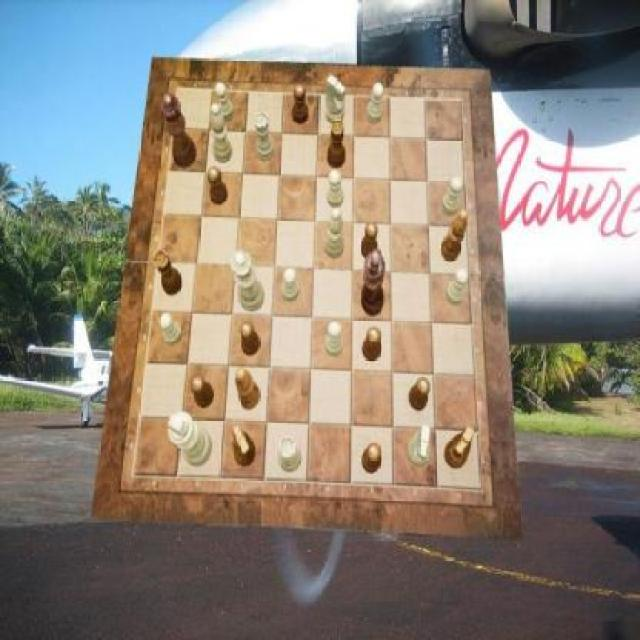bishop: (442, 211, 469, 263), (235, 368, 260, 410)
black-bishop: (362, 249, 386, 317)
black-king: (444, 426, 476, 469), (232, 425, 256, 467)
black-knight: (190, 376, 214, 410), (409, 377, 432, 411), (208, 166, 228, 204), (292, 84, 310, 124), (240, 322, 261, 356), (360, 222, 378, 260), (362, 328, 381, 362), (363, 443, 383, 474)
black-pawn: (162, 92, 198, 167)
black-queen: (154, 250, 181, 296), (328, 119, 345, 170)
black-rook: (211, 104, 233, 164), (326, 208, 346, 260)
white-bishop: (169, 412, 214, 467)
white-king: (326, 76, 346, 124), (408, 425, 430, 466)
white-knight: (441, 177, 464, 215), (446, 268, 469, 305), (160, 314, 183, 348), (366, 84, 384, 124), (216, 83, 234, 122), (325, 322, 342, 358), (328, 169, 344, 207), (282, 268, 299, 302)
white-pawn: (230, 249, 264, 312)
white-queen: (253, 114, 274, 161), (278, 436, 302, 472)
